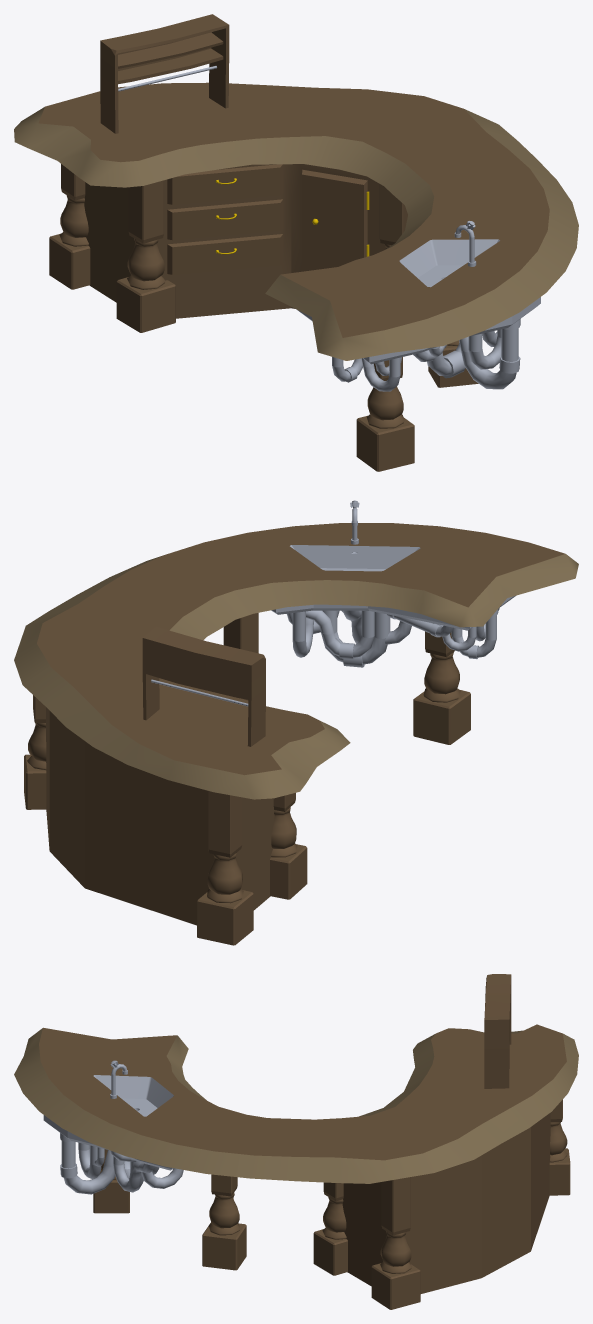
File: Tisch.fbx
The picture shows the model from 3 angles, top to bottom: view 1: azimuth 30°, elevation 25°; view 2: azimuth 150°, elevation 25°; view 3: azimuth 270°, elevation 25°; orthographic projection. The views are drawn at different scales.
Visible parts, largest first — view 1: tisch_PackA, Tischbeine, tisch_regal, tisch_schrank_tuer, tisch_rohre, schublade2, schublade1, schublade3, rohrverbundstück13; view 2: tisch_PackA, Tischbeine, tisch_regal, tisch_rohre, rohrverbundstück13; view 3: tisch_PackA, Tischbeine, tisch_rohre, tisch_regal.
Boxes of the visible parts, box(x1,y1,x2,y2) form: tisch_PackA: box(14, 82, 578, 364); Tischbeine: box(49, 164, 478, 471); tisch_regal: box(100, 14, 229, 133); tisch_schrank_tuer: box(302, 169, 369, 267); tisch_rohre: box(332, 328, 518, 391); schublade2: box(167, 199, 283, 240); schublade1: box(167, 234, 283, 274); schublade3: box(167, 164, 283, 204); rohrverbundstück13: box(344, 261, 520, 382); tisch_PackA: box(14, 523, 578, 925); Tischbeine: box(24, 613, 470, 945); tisch_regal: box(142, 626, 265, 746); tisch_rohre: box(287, 608, 499, 664); rohrverbundstück13: box(339, 538, 498, 667); tisch_PackA: box(14, 1024, 578, 1293); Tischbeine: box(93, 1099, 570, 1309); tisch_rohre: box(61, 1141, 183, 1194); tisch_regal: box(484, 974, 511, 1088).
Size of the model in its own units: 412 by 264 by 634.
